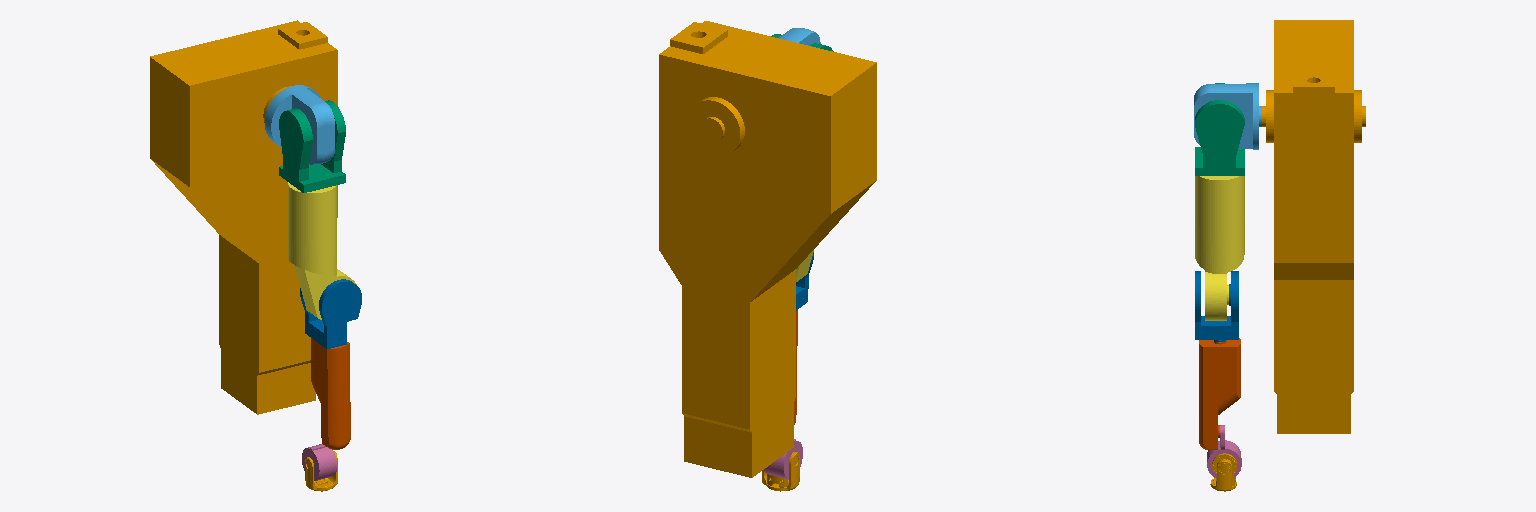
The robot description file, URDF, robot "feather_arm_right_8dof":
<?xml version='1.0' encoding='utf-8'?>
<robot name="feather_arm_right_8dof">
  <link name="torso_lift_link">
    <inertial>
      <origin xyz="-0.056545789435304396 1.2140065381960499e-17 0.4494172125754803" rpy="0 0 0"/>
      <mass value="16.82701287874279"/>
      <inertia ixx="0.796397" iyy="0.948342" izz="0.274579" ixy="0.0" iyz="0.0" ixz="0.093124"/>
    </inertial>
    <visual>
      <origin xyz="-0.0635 0.0 -0.8628" rpy="0 0 0"/>
      <geometry>
        <mesh filename="../meshes/torso_lift_link.stl" scale="0.001 0.001 0.001"/>
      </geometry>
    </visual>
    <collision>
      <origin xyz="-0.0635 0.0 -0.8628" rpy="0 0 0"/>
      <geometry>
        <mesh filename="../meshes/torso_lift_link.stl" scale="0.001 0.001 0.001"/>
      </geometry>
    </collision>
  </link>
    <link name="right_shoulder_pitch_link">
    <inertial>
      <origin xyz="-0.0018624480122866327 -0.06621080273374176 -6.347532632844377e-08" rpy="0 0 0"/>
      <mass value="2.615012325958296"/>
      <inertia ixx="0.009661" iyy="0.005821" izz="0.006896" ixy="0.000389" iyz="-0.0" ixz="-0.0"/>
    </inertial>
    <visual>
      <origin xyz="-0.0565 0.1204 -1.45905" rpy="0 0 0"/>
      <geometry>
        <mesh filename="../meshes/right_shoulder_pitch_link.stl" scale="0.001 0.001 0.001"/>
      </geometry>
    </visual>
    <collision>
      <origin xyz="-0.0565 0.1204 -1.45905" rpy="0 0 0"/>
      <geometry>
        <mesh filename="../meshes/right_shoulder_pitch_link.stl" scale="0.001 0.001 0.001"/>
      </geometry>
    </collision>
  </link>

  <joint name="SpR" type="revolute">
    <origin xyz="-0.007 -0.1204 0.59625" rpy="0 0 0"/>
    <parent link="torso_lift_link"/>
    <child link="right_shoulder_pitch_link"/>
    <axis xyz="0.0 1.0 -0.0"/>
    <limit upper="2.617994" lower="-2.617994" effort="100" velocity="100"/>
  </joint>

  <link name="right_shoulder_roll_link">
    <inertial>
      <origin xyz="0.024867050676191837 1.0130838520860941e-07 -0.04882224644865407" rpy="0 0 0"/>
      <mass value="2.200236989303643"/>
      <inertia ixx="0.008794" iyy="0.010821" izz="0.005713" ixy="-0.0" iyz="0.0" ixz="0.000118"/>
    </inertial>
    <visual>
      <origin xyz="-0.0299 0.2164 -1.45905" rpy="0 0 0"/>
      <geometry>
        <mesh filename="../meshes/right_shoulder_roll_link.stl" scale="0.001 0.001 0.001"/>
      </geometry>
    </visual>
    <collision>
      <origin xyz="-0.0299 0.2164 -1.45905" rpy="0 0 0"/>
      <geometry>
        <mesh filename="../meshes/right_shoulder_roll_link.stl" scale="0.001 0.001 0.001"/>
      </geometry>
    </collision>
  </link>

  <joint name="SrR" type="revolute">
    <origin xyz="-0.0266 -0.096 0.0" rpy="0 0 0"/>
    <parent link="right_shoulder_pitch_link"/>
    <child link="right_shoulder_roll_link"/>
    <axis xyz="1.0 -0.0 -5e-06"/>
    <limit upper="0.310669" lower="-3.14" effort="100" velocity="100"/>
  </joint>

  <link name="right_shoulder_yaw_link">
    <inertial>
      <origin xyz="0.00977674710915382 -0.002126045299727791 -0.15585593302137646" rpy="0 0 0"/>
      <mass value="2.547870494725128"/>
      <inertia ixx="0.024959" iyy="0.026075" izz="0.004563" ixy="0.000131" iyz="-0.000713" ixz="0.003424"/>
    </inertial>
    <visual>
      <origin xyz="-0.056499 0.2164 -1.32855" rpy="0 0 0"/>
      <geometry>
        <mesh filename="../meshes/right_shoulder_yaw_link.stl" scale="0.001 0.001 0.001"/>
      </geometry>
    </visual>
    <collision>
      <origin xyz="-0.056499 0.2164 -1.32855" rpy="0 0 0"/>
      <geometry>
        <mesh filename="../meshes/right_shoulder_yaw_link.stl" scale="0.001 0.001 0.001"/>
      </geometry>
    </collision>
  </link>

  <joint name="SwR" type="revolute">
    <origin xyz="0.026599 0.0 -0.1305" rpy="0 0 0"/>
    <parent link="right_shoulder_roll_link"/>
    <child link="right_shoulder_yaw_link"/>
    <axis xyz="5e-06 -2e-06 1.0"/>
    <limit upper="2.216568" lower="-2.216568" effort="100" velocity="100"/>
  </joint>

  <link name="right_elbow_pitch_link">
    <inertial>
      <origin xyz="-0.005693669262013715 -0.025960395407826686 -0.037297846452405636" rpy="0 0 0"/>
      <mass value="1.0618328442131004"/>
      <inertia ixx="0.003995" iyy="0.003023" izz="0.002201" ixy="-1.2e-05" iyz="-7.7e-05" ixz="-0.000294"/>
    </inertial>
    <visual>
      <origin xyz="-0.10245 0.194399 -1.028514" rpy="0 0 0"/>
      <geometry>
        <mesh filename="../meshes/right_elbow_pitch_link.stl" scale="0.001 0.001 0.001"/>
      </geometry>
    </visual>
    <collision>
      <origin xyz="-0.10245 0.194399 -1.028514" rpy="0 0 0"/>
      <geometry>
        <mesh filename="../meshes/right_elbow_pitch_link.stl" scale="0.001 0.001 0.001"/>
      </geometry>
    </collision>
  </link>

  <joint name="EpR" type="revolute">
    <origin xyz="0.045951 0.022001 -0.300036" rpy="0 0 0"/>
    <parent link="right_shoulder_yaw_link"/>
    <child link="right_elbow_pitch_link"/>
    <axis xyz="-0.0 -1.0 -2e-06"/>
    <limit upper="2.6" lower="-1.57" effort="100" velocity="100"/>
  </joint>

  <link name="right_forearm_twist_link">
    <inertial>
      <origin xyz="0.0017658032430527687 -0.006405527395875105 -0.11371037476148727" rpy="0 0 0"/>
      <mass value="1.0931618162496082"/>
      <inertia ixx="0.006127" iyy="0.005715" izz="0.001012" ixy="1e-05" iyz="-0.000663" ixz="8.2e-05"/>
    </inertial>
    <visual>
      <origin xyz="-0.104165 0.215299 -0.915527" rpy="0 0 0"/>
      <geometry>
        <mesh filename="../meshes/right_forearm_twist_link.stl" scale="0.001 0.001 0.001"/>
      </geometry>
    </visual>
    <collision>
      <origin xyz="-0.104165 0.215299 -0.915527" rpy="0 0 0"/>
      <geometry>
        <mesh filename="../meshes/right_forearm_twist_link.stl" scale="0.001 0.001 0.001"/>
      </geometry>
    </collision>
  </link>

  <joint name="WwR" type="revolute">
    <origin xyz="0.001715 -0.0209 -0.112987" rpy="0 0 0"/>
    <parent link="right_elbow_pitch_link"/>
    <child link="right_forearm_twist_link"/>
    <axis xyz="-0.015184 -2e-06 0.999885"/>
    <limit upper="2.792527" lower="-2.792527" effort="100" velocity="100"/>
  </joint>

  <link name="right_wrist_pitch_link">
    <inertial>
      <origin xyz="-0.024508627338458155 0.00917061112337697 -0.0806873163930154" rpy="0 0 0"/>
      <mass value="0.5200372839685186"/>
      <inertia ixx="0.000536" iyy="0.000464" izz="0.00031" ixy="5e-06" iyz="9e-06" ixz="-5.1e-05"/>
    </inertial>
    <visual>
      <origin xyz="-0.107685 0.215298 -0.684804" rpy="0 0 0"/>
      <geometry>
        <mesh filename="../meshes/right_wrist_pitch_link.stl" scale="0.001 0.001 0.001"/>
      </geometry>
    </visual>
    <collision>
      <origin xyz="-0.107685 0.215298 -0.684804" rpy="0 0 0"/>
      <geometry>
        <mesh filename="../meshes/right_wrist_pitch_link.stl" scale="0.001 0.001 0.001"/>
      </geometry>
    </collision>
  </link>
  <joint name="WpR" type="revolute">
    <origin xyz="0.00352 1e-06 -0.230723" rpy="0 0 0"/>
    <parent link="right_forearm_twist_link"/>
    <child link="right_wrist_pitch_link"/>
    <axis xyz="0.020571 -0.999788 0.00031"/>
    <limit upper="1.832596" lower="-1.832596" effort="100" velocity="100"/>
  </joint>
  <joint name="WrR" type="revolute">
    <origin xyz="-0.055 0.01 -0.085" rpy="0 0 3.14"/>
    <parent link="right_wrist_pitch_link"/>
    <child link="wrist_right_two_link_1"/>
    <axis xyz="-0.999986 -0.005264 -0.000219"/>
    <limit upper="1.832596" lower="-1.832596" effort="100" velocity="100"/>
  </joint>

  <link name="right_gripper">
    <inertial>
      <origin xyz="-3.57066e-05 0.000249371 -0.0293133" rpy="0 0 0"/>
      <mass value="0.553219"/>
      <inertia ixx="0.000409686" iyy="0.000369758" izz="0.000324415" ixy="0.0" iyz="0.0" ixz="0.0"/>
    </inertial>
    <visual>
      <origin xyz="-0.014 -0.0463995 0.0731" rpy="0 0 0"/>
      <geometry>
        <mesh filename="../meshes/right_gripper.stl" scale="1 1 1"/>
      </geometry>
      <material name="silver"/>
    </visual>
    <collision>
      <origin xyz="-0.014 -0.0463995 0.0731" rpy="0 0 0"/>
      <geometry>
        <mesh filename="../meshes/right_gripper.stl" scale="1 1 1"/>
      </geometry>
    </collision>
  </link>
    <joint name="arm_to_gripperR" type="fixed">
    <origin xyz="-0.033 0.003 -0.07" rpy="0 0 0"/>
    <parent link="wrist_right_two_link_1"/>
    <child link="right_gripper"/>
    <axis xyz="0 0 1"/>
    <limit upper="1.832596" lower="-1.832596" effort="100" velocity="100"/>
  </joint>

  <link name="wrist_right_two_link_1">
    <inertial>
      <origin xyz="-0.033759752393191816 -0.0006461767061514065 -0.010517941634391514" rpy="0 0 0"/>
      <mass value="1.463732087199499"/>
      <inertia ixx="0.001106" iyy="0.00133" izz="0.000782" ixy="0.0" iyz="1.3e-05" ixz="-9e-06"/>
    </inertial>
    <visual>
      <origin xyz="0.186449 0.02852 -0.390374" rpy="0 0 0"/>
      <geometry>
        <mesh filename="../meshes/wrist_right_two_link_1.stl" scale="0.001 0.001 0.001"/>
      </geometry>
      <material name="silver"/>
    </visual>
    <collision>
      <origin xyz="0.186449 0.02852 -0.390374" rpy="0 0 0"/>
      <geometry>
        <mesh filename="../meshes/wrist_right_two_link_1.stl" scale="0.001 0.001 0.001"/>
      </geometry>
    </collision>
  </link>

</robot>

--- Facts derived from the render (not from the file) ---
The picture shows the robot from 3 angles, left to right: view 1: azimuth 30°, elevation 25°; view 2: azimuth 150°, elevation 25°; view 3: azimuth 270°, elevation 25°; orthographic projection.
Model feather_arm_right_8dof with 9 links and 8 joints (7 revolute, 1 fixed), rooted at torso_lift_link, posed every joint at zero.
Links seen in each view (by area): view 1: torso_lift_link, right_shoulder_yaw_link, right_shoulder_roll_link, right_forearm_twist_link, right_shoulder_pitch_link, right_elbow_pitch_link, right_wrist_pitch_link, wrist_right_two_link_1; view 2: torso_lift_link, wrist_right_two_link_1, right_wrist_pitch_link; view 3: torso_lift_link, right_shoulder_yaw_link, right_forearm_twist_link, right_shoulder_roll_link, right_shoulder_pitch_link, right_elbow_pitch_link, wrist_right_two_link_1, right_wrist_pitch_link.
Boxes of the visible links, x1=… form: torso_lift_link: x1=150, y1=20, x2=337, y2=414; right_shoulder_yaw_link: x1=288, y1=182, x2=356, y2=319; right_shoulder_roll_link: x1=279, y1=100, x2=345, y2=192; right_forearm_twist_link: x1=311, y1=338, x2=350, y2=449; right_shoulder_pitch_link: x1=264, y1=85, x2=334, y2=164; right_elbow_pitch_link: x1=300, y1=279, x2=361, y2=348; right_wrist_pitch_link: x1=302, y1=444, x2=336, y2=480; wrist_right_two_link_1: x1=305, y1=451, x2=337, y2=491; torso_lift_link: x1=659, y1=21, x2=876, y2=477; wrist_right_two_link_1: x1=762, y1=452, x2=799, y2=491; right_wrist_pitch_link: x1=764, y1=439, x2=802, y2=479; torso_lift_link: x1=1262, y1=20, x2=1365, y2=433; right_shoulder_yaw_link: x1=1195, y1=176, x2=1244, y2=320; right_forearm_twist_link: x1=1199, y1=338, x2=1240, y2=449; right_shoulder_roll_link: x1=1195, y1=83, x2=1244, y2=175; right_shoulder_pitch_link: x1=1194, y1=83, x2=1261, y2=149; right_elbow_pitch_link: x1=1195, y1=271, x2=1238, y2=341; wrist_right_two_link_1: x1=1210, y1=453, x2=1236, y2=491; right_wrist_pitch_link: x1=1207, y1=425, x2=1241, y2=477.
Bounding box of the posed robot: 0.3956 × 0.3968 × 1.07 m (x, y, z).
Meshes: 9 distinct files referenced, 8 mesh visuals loaded (8 binary STL); not drawn: 1 (reference not matched to a file when rendering).
